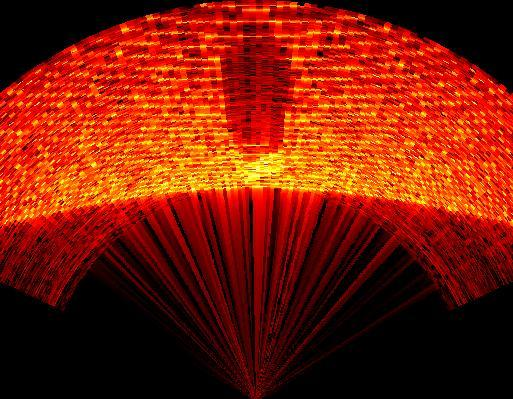box_crate: (218, 24, 297, 158)
